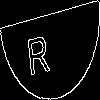R: (25, 24, 51, 77)
